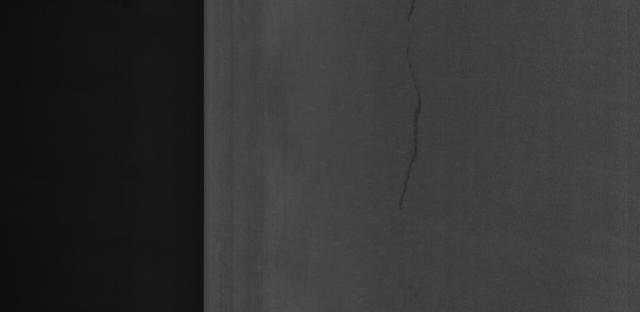water_spot: (384, 6, 444, 222)
